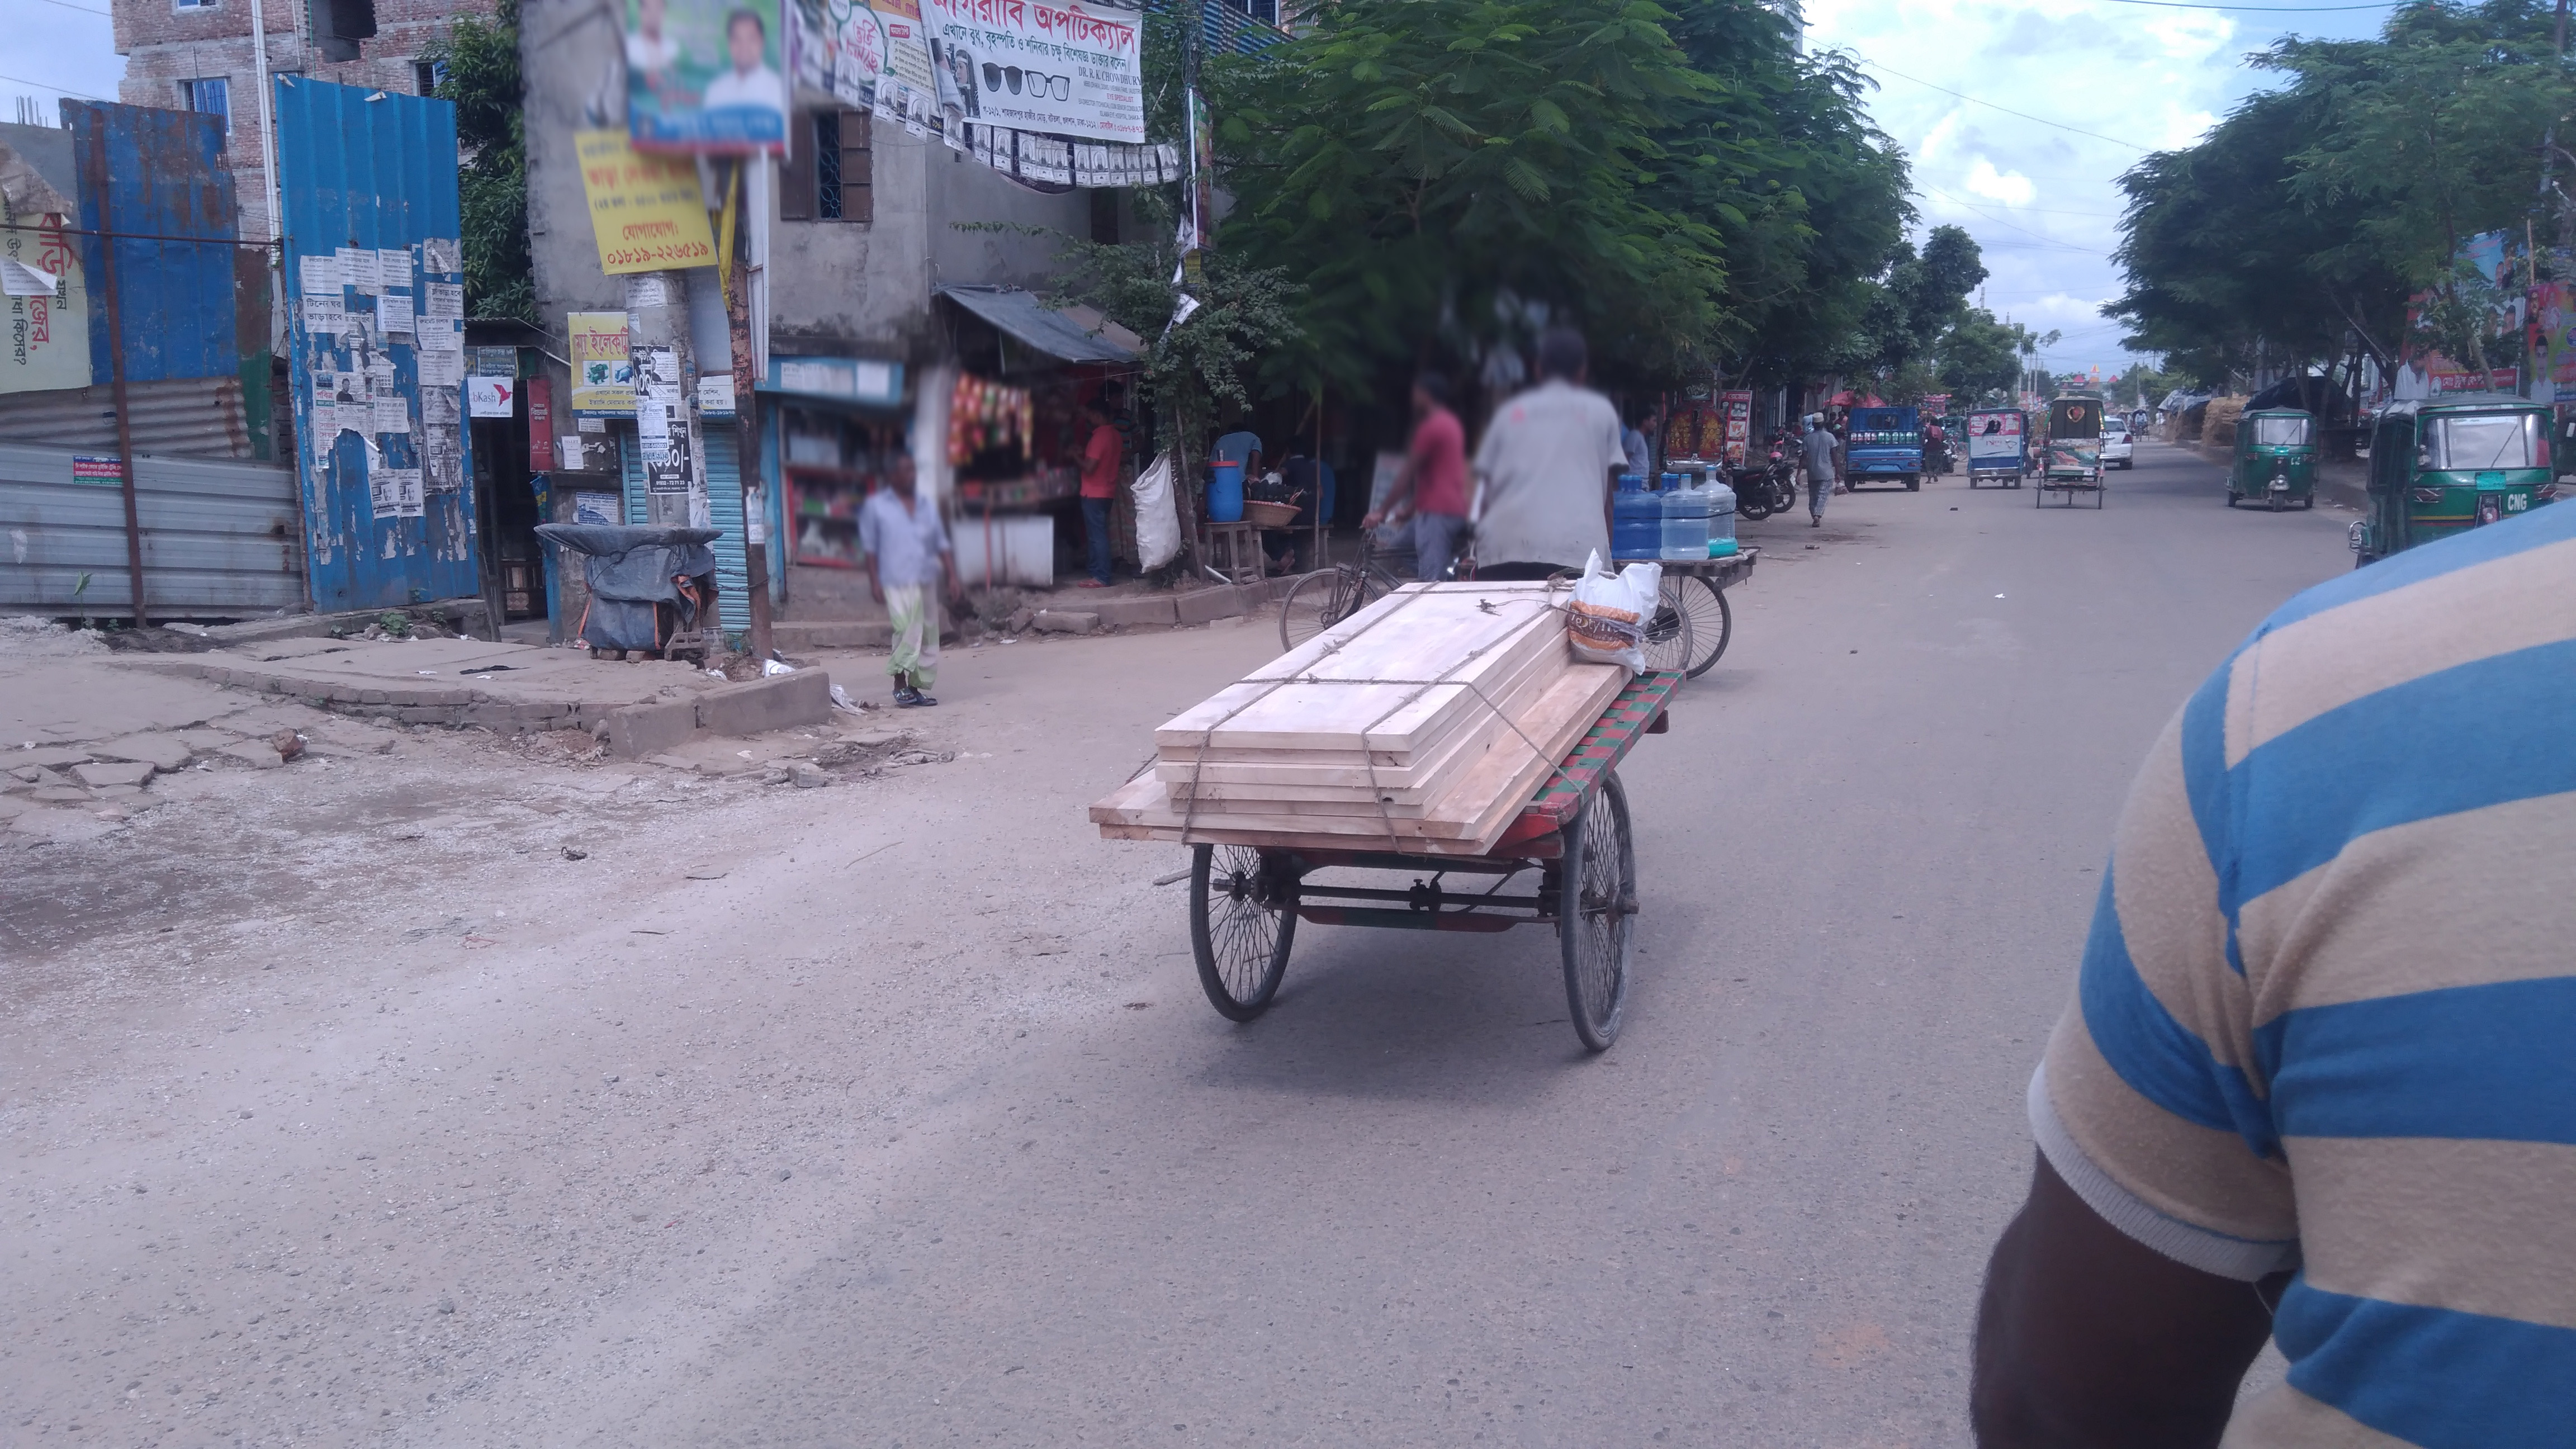cng: (2358, 382, 2557, 559), (2231, 400, 2330, 522)
rickshaw: (2036, 384, 2120, 513), (1962, 396, 2040, 497)
truck: (1835, 398, 1930, 497)
van: (1058, 510, 1714, 1085)
